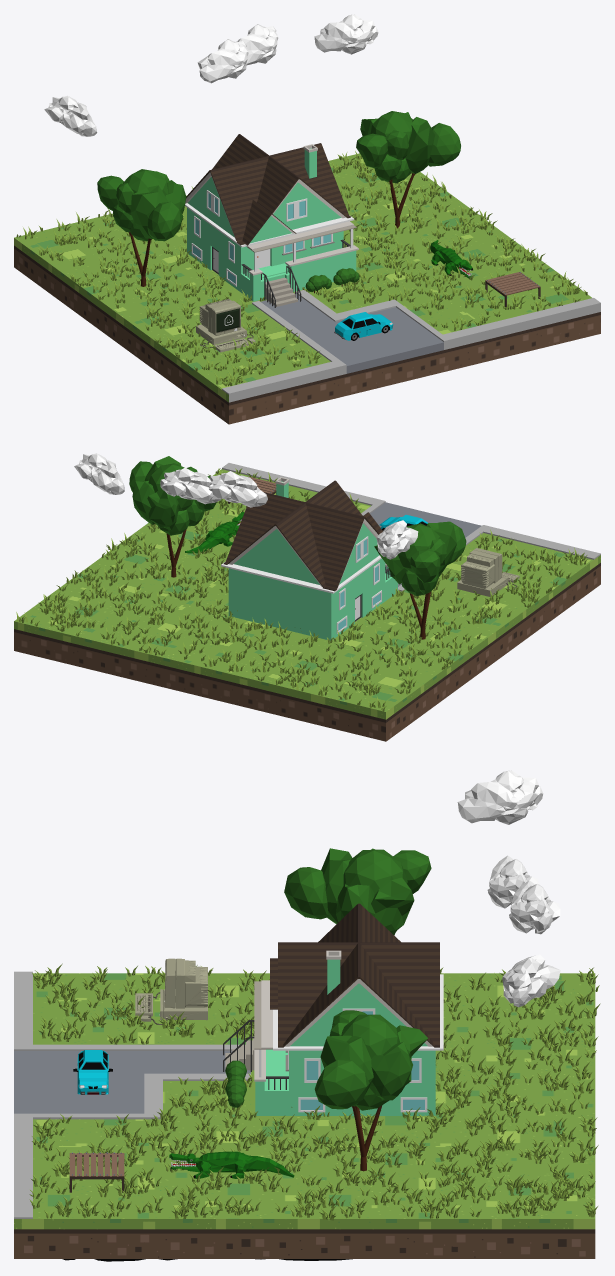
The picture shows the model from 3 angles, top to bottom: view 1: azimuth 30°, elevation 25°; view 2: azimuth 150°, elevation 25°; view 3: azimuth 270°, elevation 25°; orthographic projection. The views are drawn at different scales.
Visible parts, largest first — view 1: Cube.006, Cube.352, Circle.012_Grass_0.192, Cube.007, tree, tree.001, OBJRANDOM_RETRO_PC, VEHICLES_CAR, Cube.009, ANIMAL_COCODRILO; view 2: Cube.006, Cube.352, Circle.012_Grass_0.192, Cube.007, tree.001, tree, OBJRANDOM_RETRO_PC, ANIMAL_COCODRILO; view 3: Cube.006, Circle.012_Grass_0.192, Cube.352, tree, Cube.007, tree.001, OBJRANDOM_RETRO_PC, ANIMAL_COCODRILO, Cube.009, VEHICLES_CAR.
Part boxes in pixels (<box>): Cube.006: <box>14,153,600,424</box>; Cube.352: <box>185,134,358,307</box>; Circle.012_Grass_0.192: <box>16,151,587,386</box>; Cube.007: <box>44,14,378,136</box>; tree: <box>356,111,460,228</box>; tree.001: <box>97,169,186,286</box>; OBJRANDOM_RETRO_PC: <box>196,298,255,352</box>; VEHICLES_CAR: <box>334,312,393,340</box>; Cube.009: <box>485,272,540,306</box>; ANIMAL_COCODRILO: <box>430,240,472,278</box>; Cube.006: <box>14,463,600,741</box>; Cube.352: <box>221,477,397,640</box>; Circle.012_Grass_0.192: <box>16,468,587,711</box>; Cube.007: <box>74,453,418,559</box>; tree.001: <box>374,521,466,639</box>; tree: <box>129,456,216,577</box>; OBJRANDOM_RETRO_PC: <box>457,548,519,596</box>; ANIMAL_COCODRILO: <box>185,512,244,553</box>; Cube.006: <box>14,971,595,1258</box>; Circle.012_Grass_0.192: <box>29,963,600,1220</box>; Cube.352: <box>223,903,443,1115</box>; tree: <box>314,1010,427,1171</box>; Cube.007: <box>457,770,560,1007</box>; tree.001: <box>284,848,431,935</box>; OBJRANDOM_RETRO_PC: <box>135,958,207,1024</box>; ANIMAL_COCODRILO: <box>169,1151,294,1178</box>; Cube.009: <box>69,1152,124,1192</box>; VEHICLES_CAR: <box>73,1050,112,1094</box>.
Size of the model in its own units: 4071 by 2149 by 4040.
38 materials, 3 textured.
